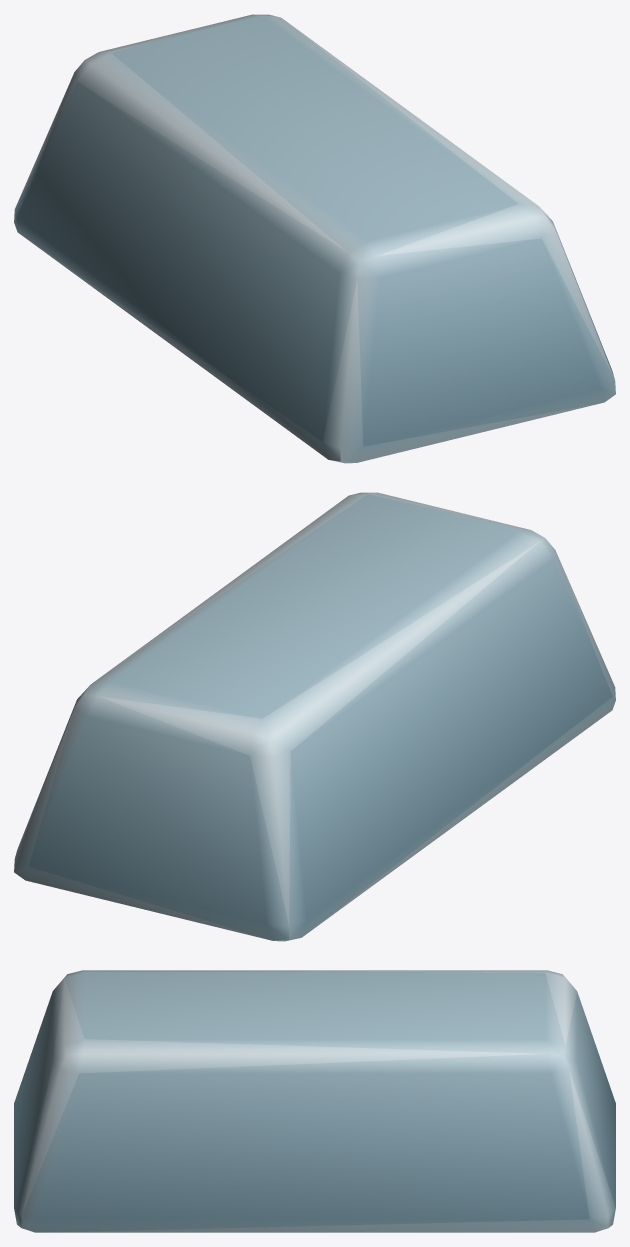
The model's file is lingot-argent.glb.
The picture shows the model from 3 angles, top to bottom: view 1: azimuth 30°, elevation 25°; view 2: azimuth 150°, elevation 25°; view 3: azimuth 270°, elevation 25°; orthographic projection. The views are drawn at different scales.
Parts seen in each view (by area): view 1: Silver_Bar; view 2: Silver_Bar; view 3: Silver_Bar.
Part boxes in pixels (x1,y1,x2,y2): Silver_Bar: [14, 14, 615, 463]; Silver_Bar: [14, 492, 615, 941]; Silver_Bar: [14, 970, 615, 1232].
Bounding box in the file's own units: 0.4 × 0.25 × 0.8.
1 material, 1 textured.
